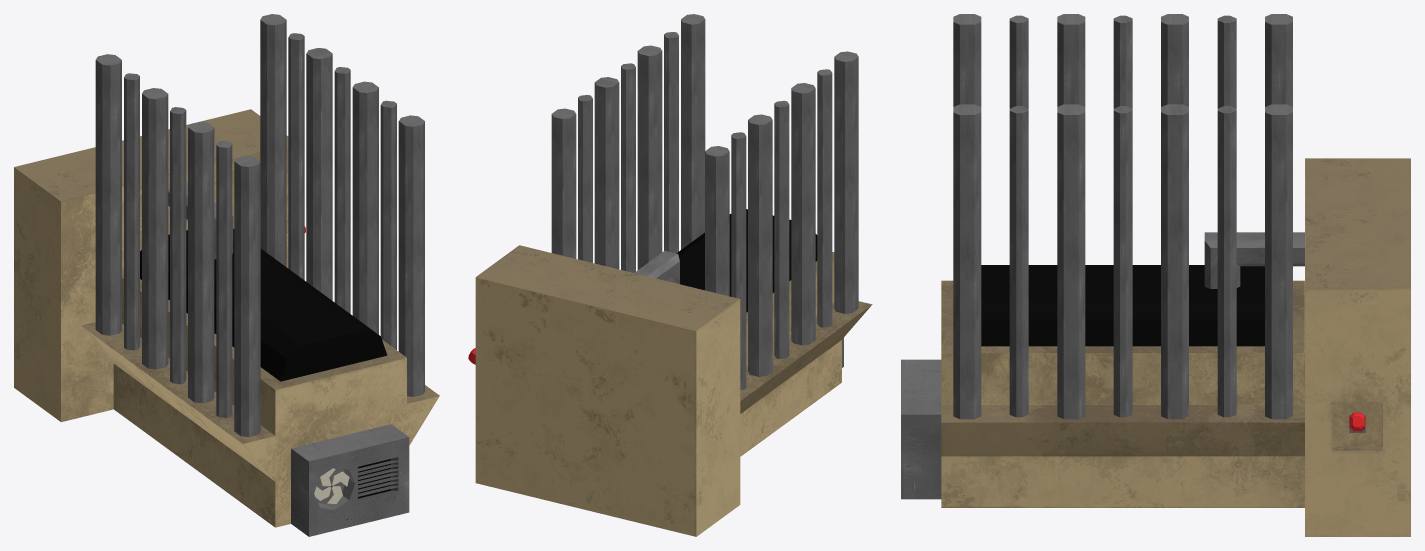
File: generator.fbx
3 views of the same model, side by side, from view 1: azimuth 30°, elevation 25°; view 2: azimuth 150°, elevation 25°; view 3: azimuth 270°, elevation 25° (orthographic). The views are drawn at different scales.
Visible parts, largest first — view 1: generatrice; view 2: generatrice; view 3: generatrice.
Boxes of the visible parts, x1=… form: generatrice: x1=14, y1=14, x2=439, y2=536; generatrice: x1=468, y1=14, x2=872, y2=536; generatrice: x1=901, y1=14, x2=1410, y2=536.
Size of the model in its own units: 405 by 526 by 596.
